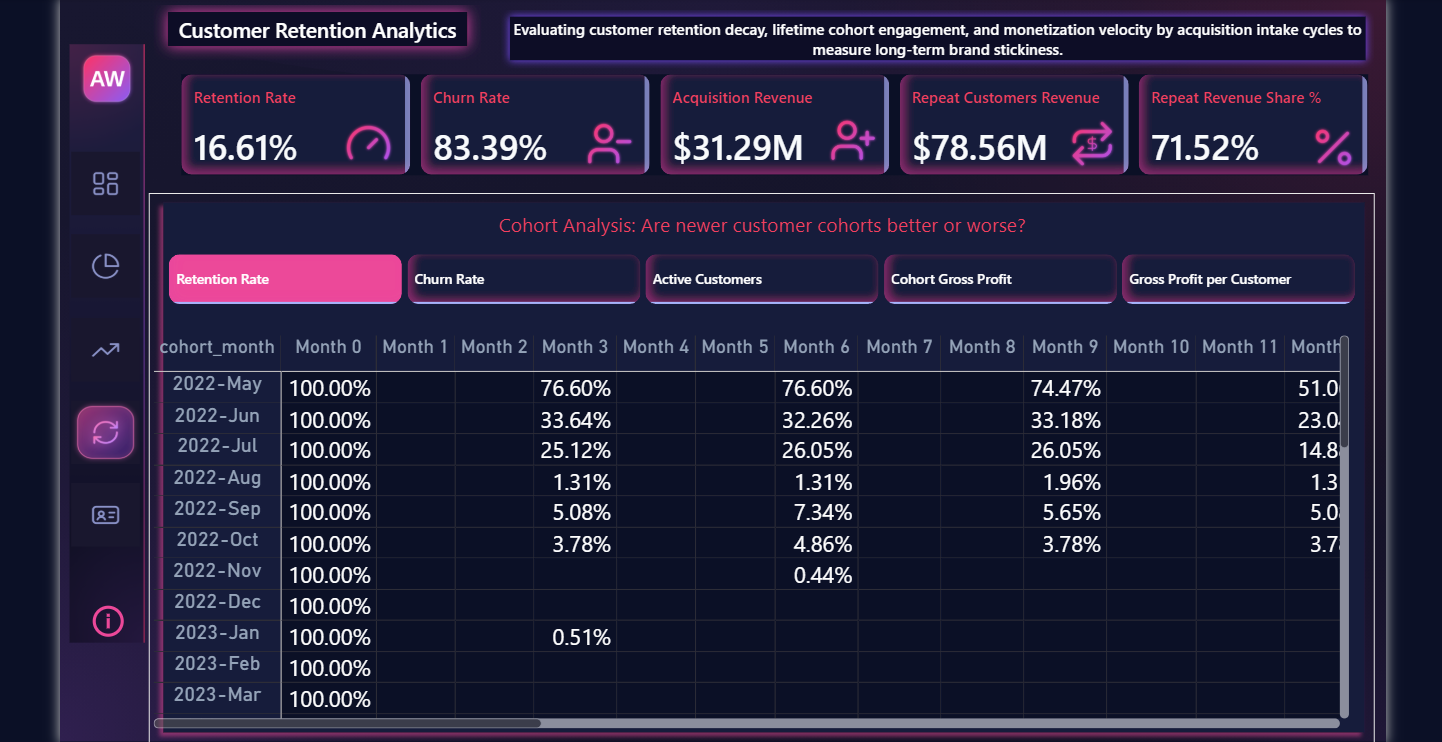

The page's visual inventory and layout, read from the dashboard file:
{"tool":"powerbi","page":{"name":" Customer Retention Analytics","canvas":[1280,720],"ordinal":3},"visuals":[{"type":"shape","box":[90,0,316.2,60],"z":0},{"type":"shape","box":[90.9,188.8,1177.8,530],"z":0,"group":"g1"},{"type":"shape","box":[426.2,10,842.5,58.8],"z":1000},{"type":"pivotTable","title":"Who is buying vs. who is slipping away?","fields":{"Values":["_Measures.Retention Rate"],"Rows":["gold fact_customer_cohort.cohort_month"],"Columns":["gold fact_customer_cohort.Period Label"]},"box":[86.2,321.1,1163.5,388.7],"z":1000,"group":"g1"},{"type":"image","box":[1.2,40,88.8,587.5],"z":2000},{"type":"actionButton","box":[26.2,581,40,40],"z":3000},{"type":"cardVisual","fields":{"Data":["_Measures.KPI Portfolio Retention Rate","_Measures.KPI Portfolio Churn Rate","_Measures.KPI Revenue New Customers","_Measures.KPI Revenue Repeat Customers (M1+)","_Measures.KPI Repeat Revenue Share %"]},"box":[112.5,68.8,1157.5,107.5],"z":4000},{"type":"group","id":"g1","title":"Group 4","box":[86.2,188.8,1182.5,530],"z":5000},{"type":"group","id":"g2","title":"Group 4","box":[100.1,201.5,1155.8,100.1],"z":6000},{"type":"image","box":[12.5,32.5,66.2,90],"z":8000},{"type":"group","id":"g3","title":"Group 5","box":[11.2,148.8,66.2,381.2],"z":9000},{"type":"advancedSlicerVisual","fields":{"Values":["Parameter.Parameter"]},"box":[100.1,243,1155,58.8],"z":9000,"group":"g2"},{"type":"image","box":[258.2,105,78.4,71.2],"z":10000},{"type":"textbox","box":[418.5,201.5,577.5,36.2],"z":10001,"group":"g2"},{"type":"image","box":[491,105,78.4,71.2],"z":11000},{"type":"image","box":[729.9,97.7,71.2,78.4],"z":12000},{"type":"image","box":[956.7,105,78.4,71.2],"z":13000},{"type":"actionButton","box":[11.2,148.8,66.2,61.2],"z":13000,"group":"g3"},{"type":"image","box":[1189.6,108.6,78.4,71.2],"z":14000},{"type":"actionButton","box":[11.2,228.8,66.2,61.2],"z":14000,"group":"g3"},{"type":"actionButton","box":[11.2,388.8,66.2,61.2],"z":15000,"group":"g3"},{"type":"actionButton","box":[11.2,308.8,66.2,61.2],"z":16000,"group":"g3"},{"type":"actionButton","box":[11.2,468.8,66.2,61.2],"z":17000,"group":"g3"}]}

Visuals, with their boxes on the page's 1280x720 design canvas (x1, y1, x2, y2). These are canvas units, not pixel positions in the 1442x742 screenshot, which may show the page scaled, cropped or inside an application window:
shape: l=90, t=0, r=406, b=60
shape: l=91, t=189, r=1269, b=719
shape: l=426, t=10, r=1269, b=69
"Who is buying vs. who is slipping away?" pivotTable: l=86, t=321, r=1250, b=710
image: l=1, t=40, r=90, b=628
actionButton: l=26, t=581, r=66, b=621
cardVisual - _Measures.KPI Portfolio Retention Rate x _Measures.KPI Portfolio Churn Rate: l=112, t=69, r=1270, b=176
"Group 4" group: l=86, t=189, r=1269, b=719
"Group 4" group: l=100, t=202, r=1256, b=302
image: l=12, t=32, r=79, b=122
"Group 5" group: l=11, t=149, r=77, b=530
advancedSlicerVisual - Parameter.Parameter: l=100, t=243, r=1255, b=302
image: l=258, t=105, r=337, b=176
textbox: l=418, t=202, r=996, b=238
image: l=491, t=105, r=569, b=176
image: l=730, t=98, r=801, b=176
image: l=957, t=105, r=1035, b=176
actionButton: l=11, t=149, r=77, b=210
image: l=1190, t=109, r=1268, b=180
actionButton: l=11, t=229, r=77, b=290
actionButton: l=11, t=389, r=77, b=450
actionButton: l=11, t=309, r=77, b=370
actionButton: l=11, t=469, r=77, b=530
